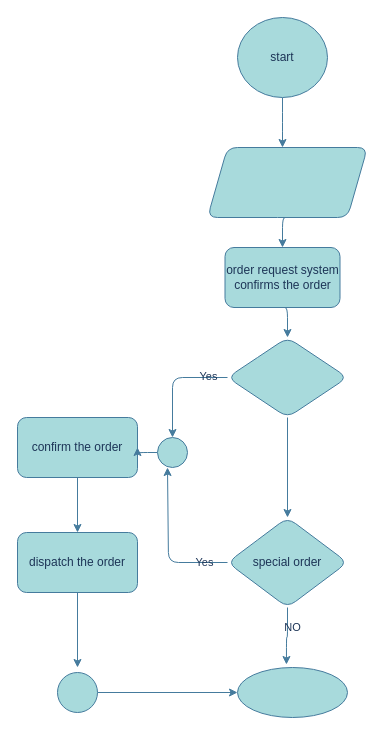
The diagram is 385 pixels wide and 735 high, and some of its shapes have lost their labels. Each missing label, with the centre of its shape:
"customer place order" goes at point 287,182.
"end" goes at point 292,692.
"normal order" goes at point 287,377.
